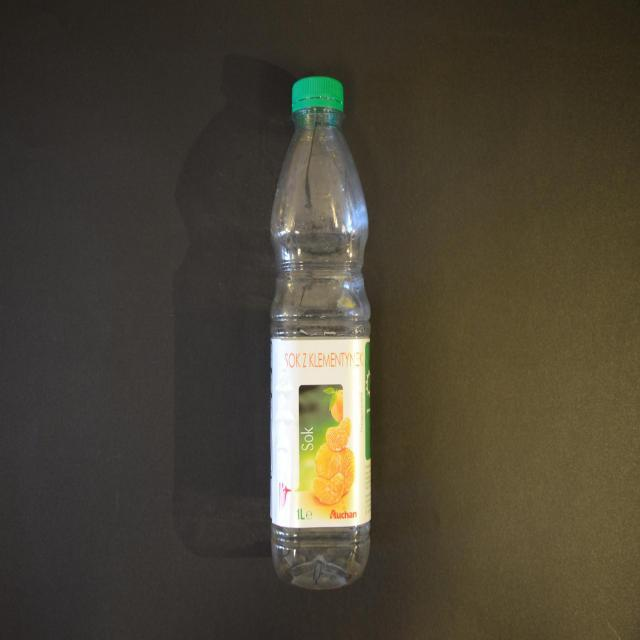plastic_bottle: (269, 76, 372, 590)
